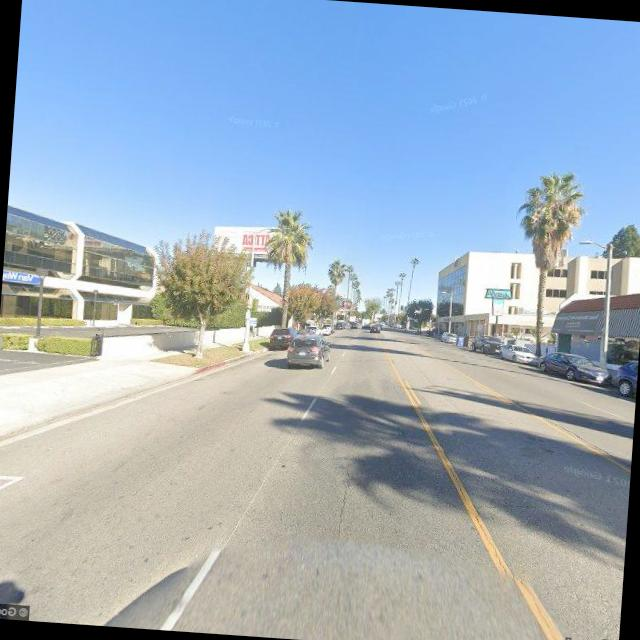pothole: (331, 460, 358, 538)
